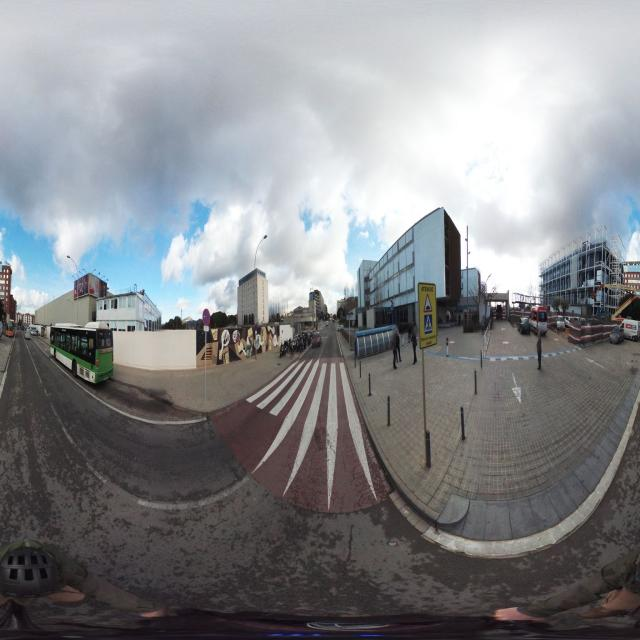forb_stopping: (255, 325, 258, 331)
forb_waiting: (203, 309, 211, 326)
